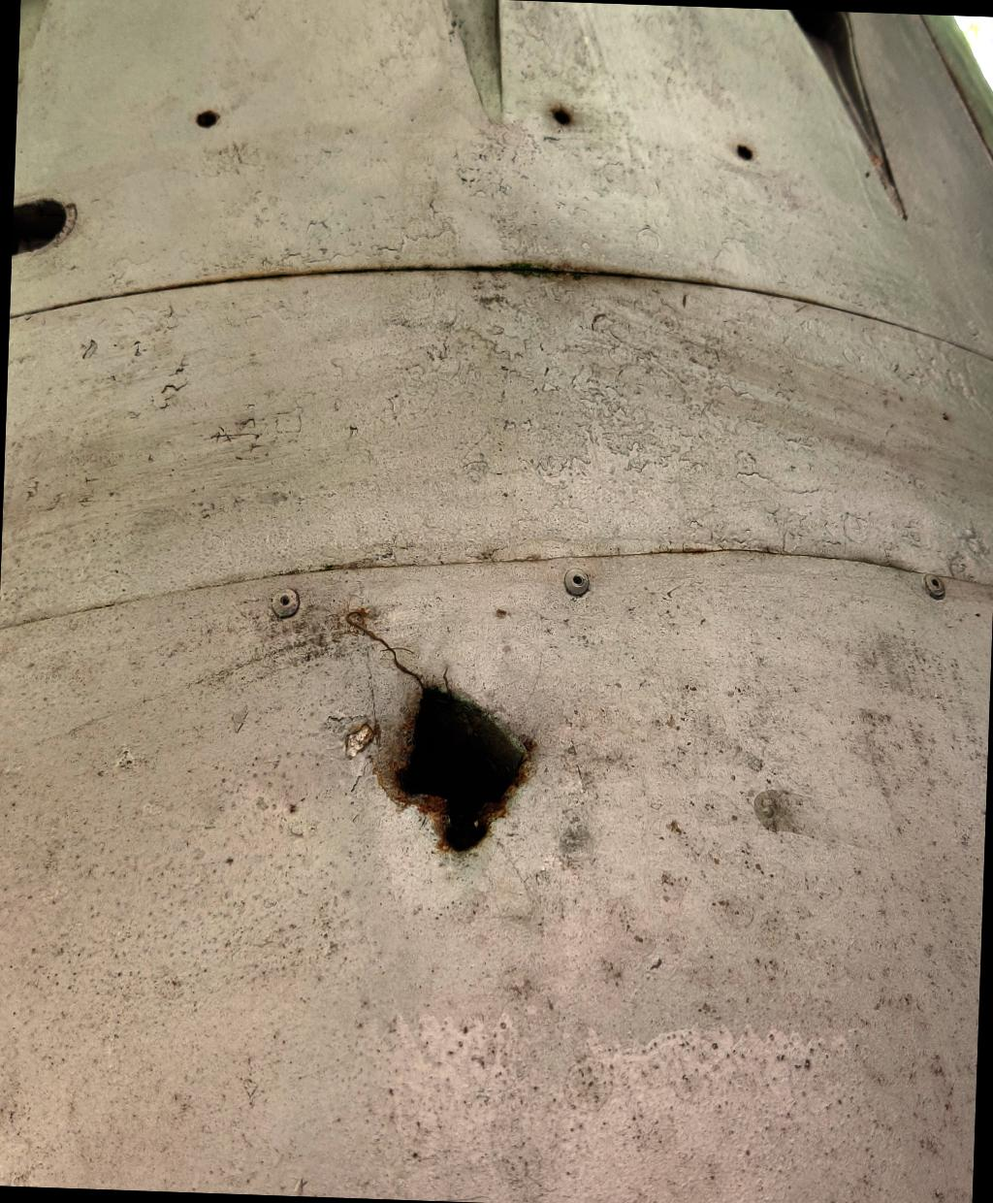crack: (333, 607, 550, 878)
